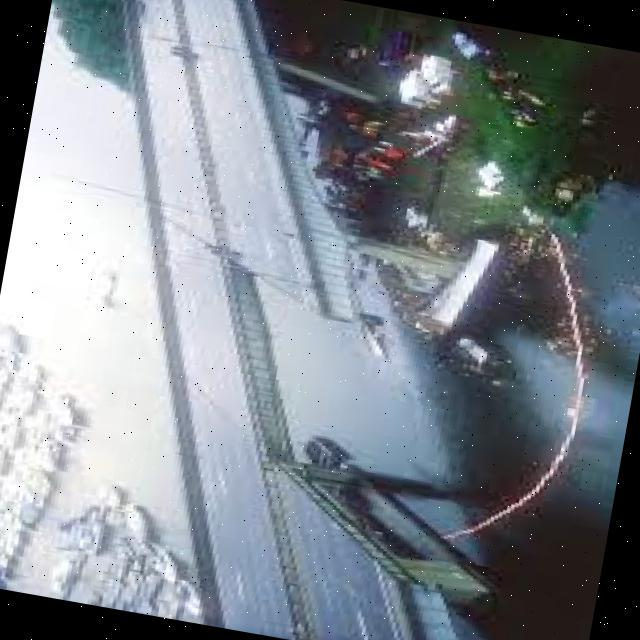bridge collapse: (61, 0, 640, 639)
